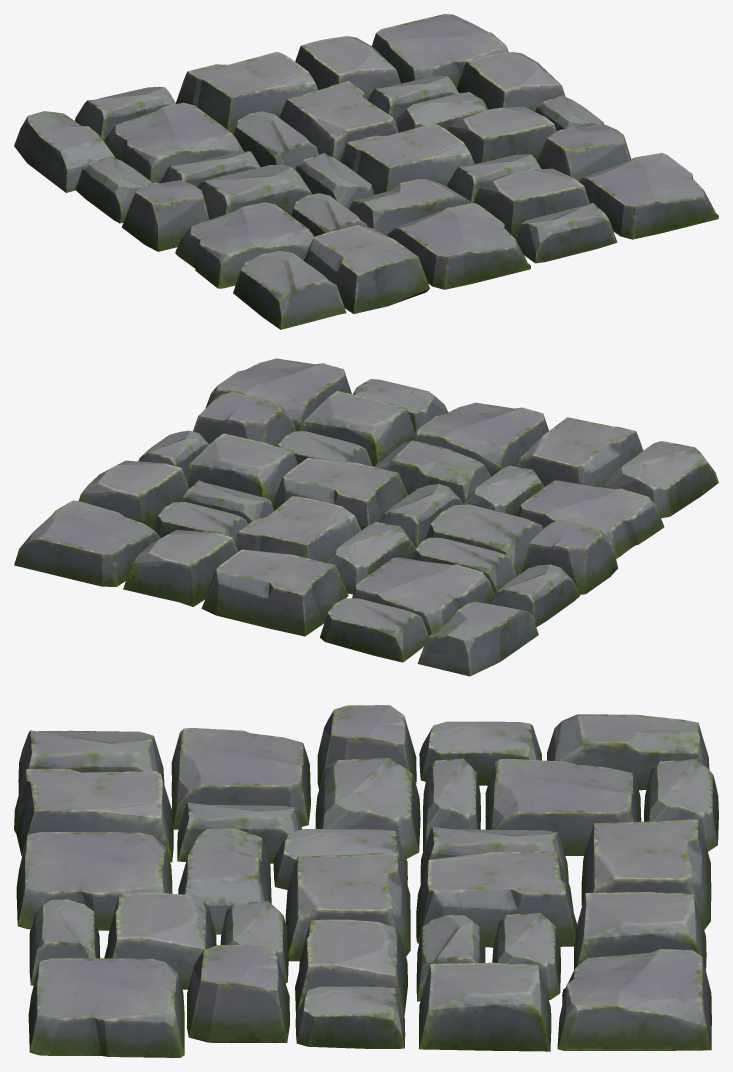
The model's file is rockpath_square_wide.glb.
The picture shows the model from 3 angles, top to bottom: view 1: azimuth 30°, elevation 25°; view 2: azimuth 150°, elevation 25°; view 3: azimuth 270°, elevation 25°; orthographic projection. The views are drawn at different scales.
Parts seen in each view (by area): view 1: RockPath_Square_Wide; view 2: RockPath_Square_Wide; view 3: RockPath_Square_Wide.
Part boxes in pixels (x1,y1,x2,y2): RockPath_Square_Wide: (14,14,718,329); RockPath_Square_Wide: (14,358,718,676); RockPath_Square_Wide: (14,705,718,1057).
Size of the model in its own units: 2.05 by 0.1763 by 1.99.
1 material, 1 textured.
